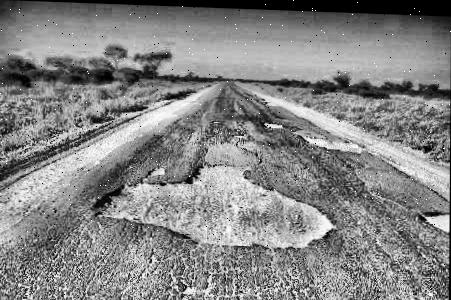pothole: (91, 157, 338, 249), (302, 129, 364, 152), (418, 204, 449, 228), (146, 164, 167, 176), (260, 118, 283, 126)
